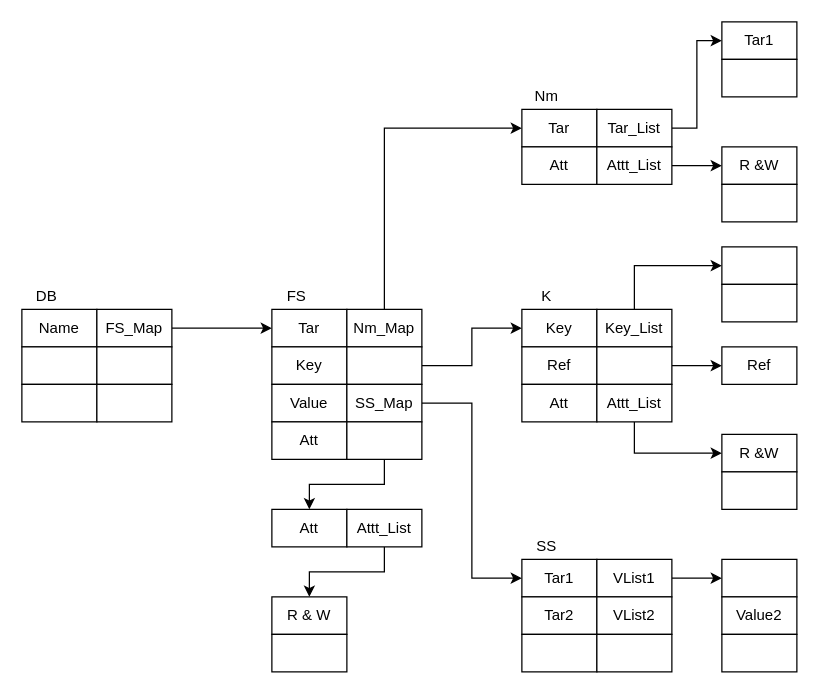
Some shapes in this 819 by 694 pixel diagram are drawn without their labels. The shapes that lost their labels are listed below. From the top down, each one's box as (x1, y1, x2, y2) in pixels, then its label:
(721, 246, 797, 284): Key1
(346, 346, 422, 384): K_Map
(596, 346, 672, 384): Ref_List
(346, 421, 422, 459): Att_Map
(721, 558, 797, 597): Value1
